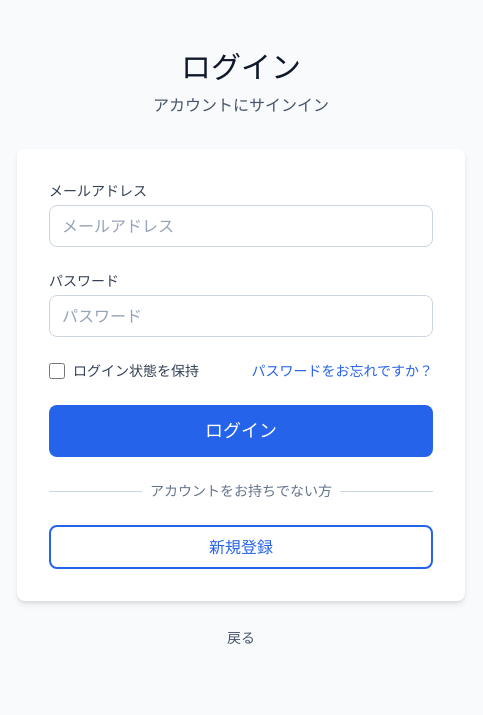
Scenario: LoginPage › ログイン失敗時にエラーメッセージが表示される
Type "wrong@example.com" into the field labelled "メールアドレス". click: (241, 226)
box: [49, 205, 433, 247]
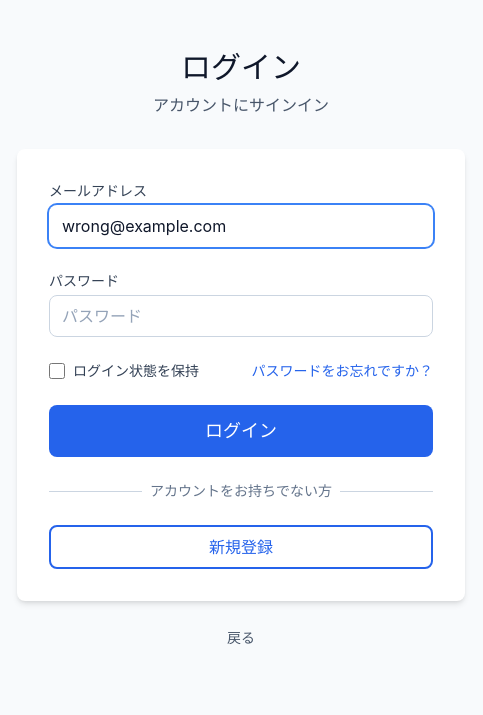
Type "wrongpassword" into the password field labelled "パスワード". click: (241, 316)
box: [49, 295, 433, 337]
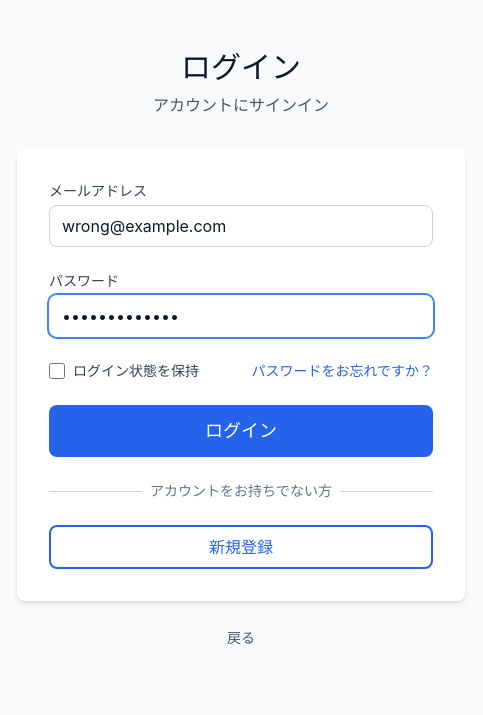
Click the button "ログイン". click: (241, 431)
box: [49, 405, 433, 457]
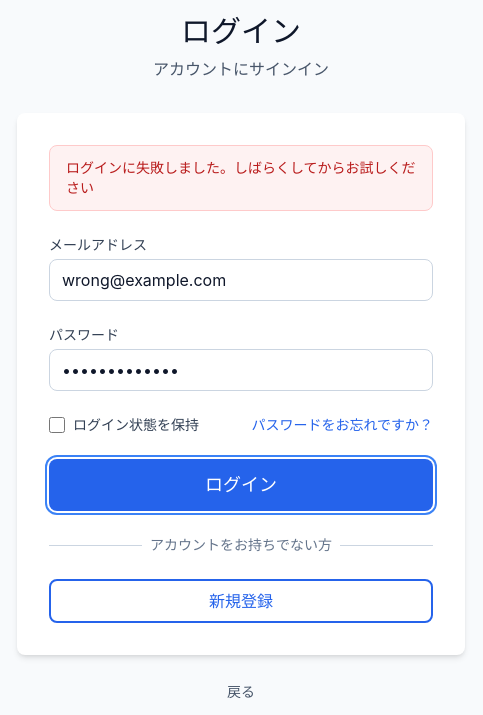
Expected: the text "ログインに失敗しました。しばらくしてからお試しください" is shown, [49, 145, 433, 211]
